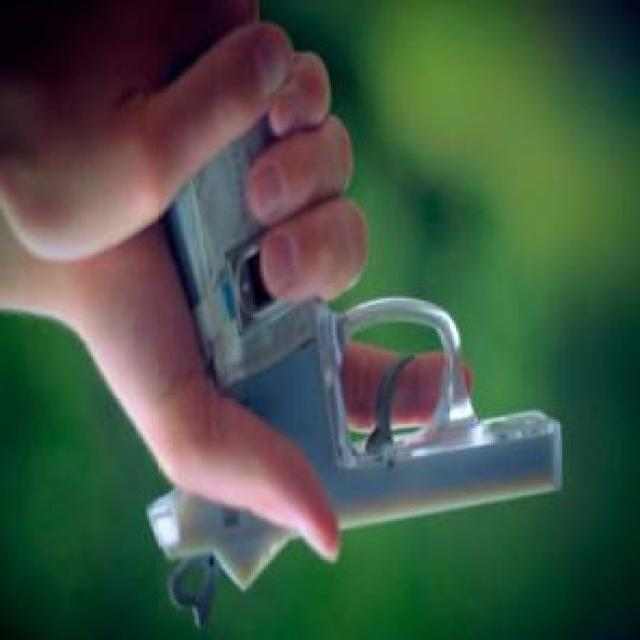pistol: (132, 54, 566, 629)
